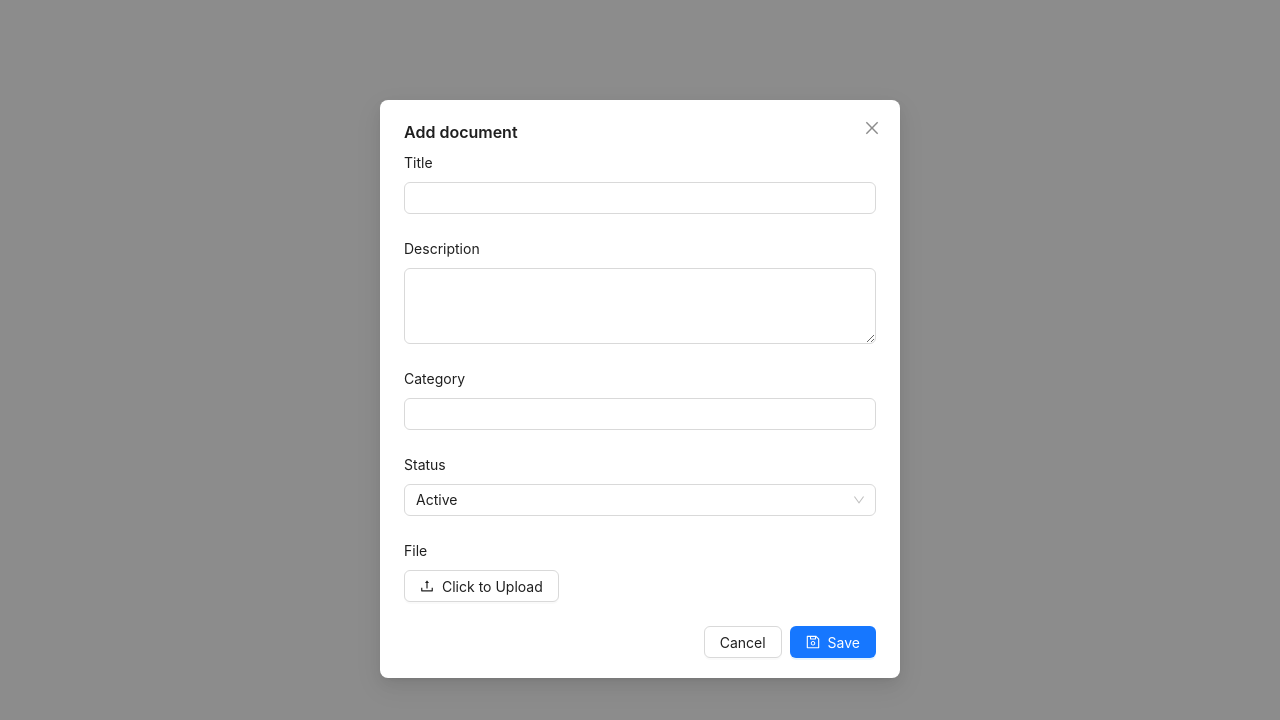
Test case: DocumentFormModal › surfaces a server-side field error on the field, not just the banner
Type "Handbook" into the field labelled "Title" at (640, 198), box [404,182,876,214]
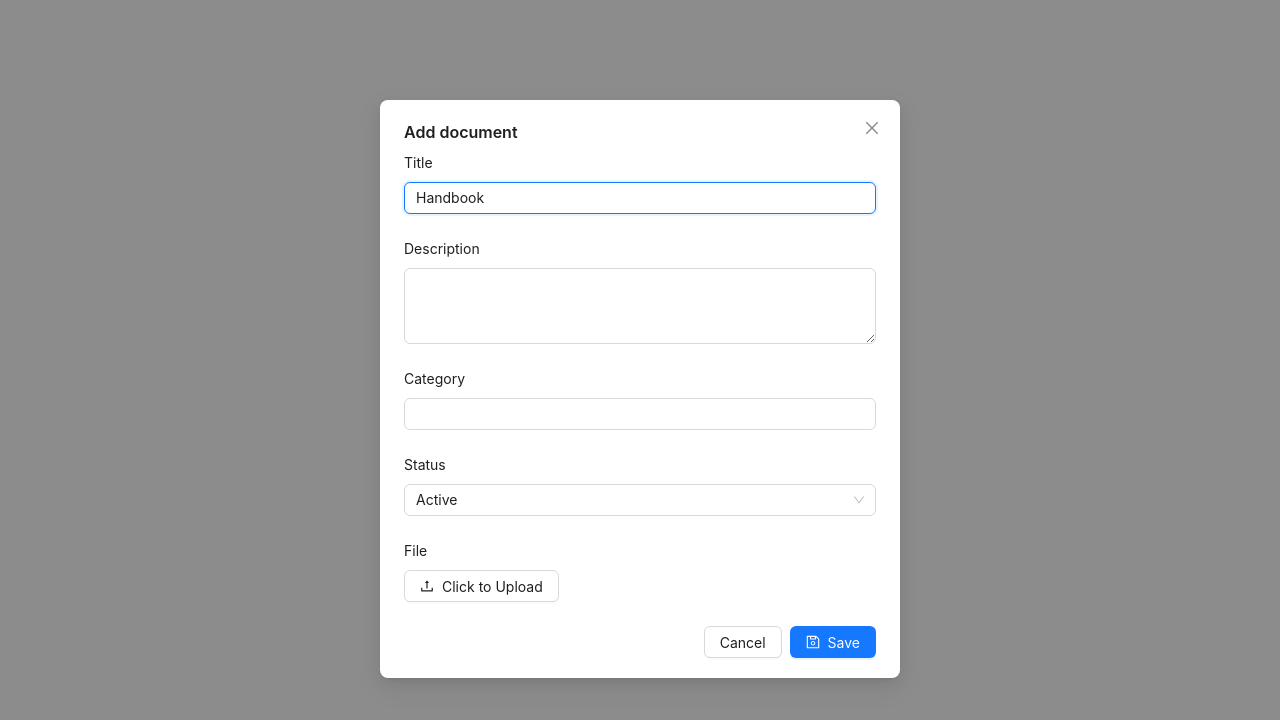
Type "Employee handbook" into the text box labelled "Description" at (640, 306), box [404,268,876,344]
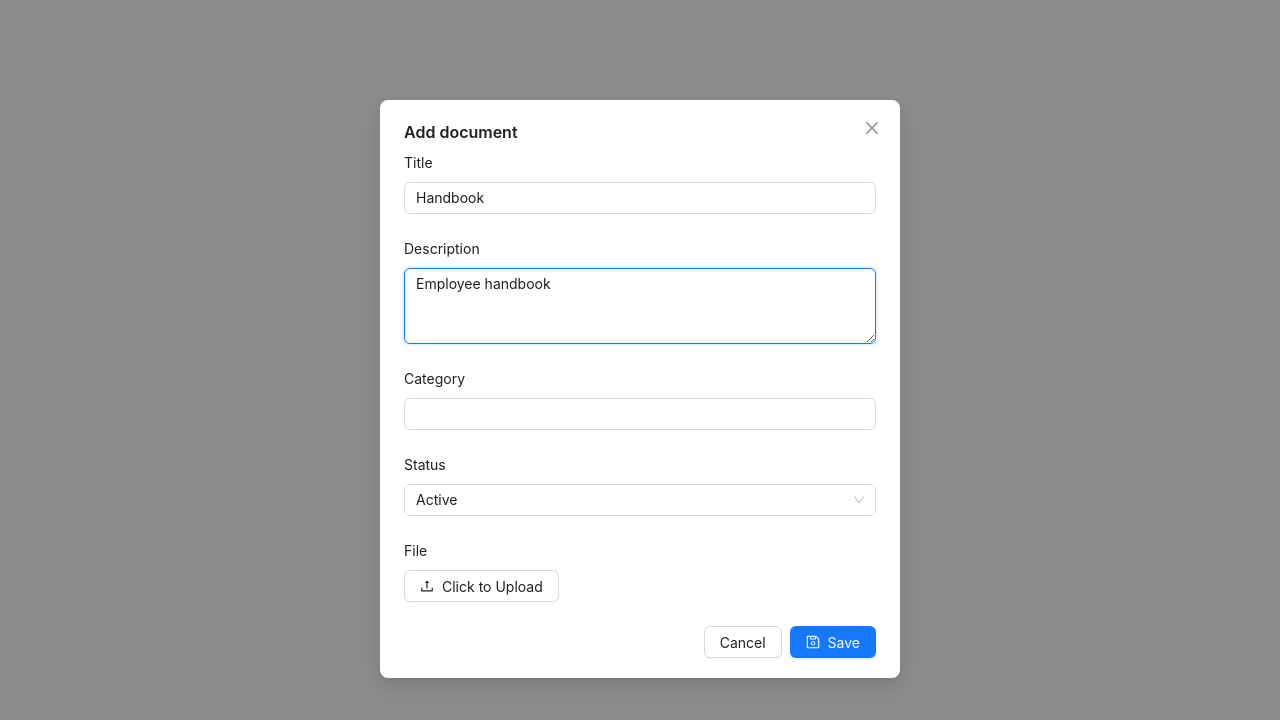
Type "HR" into the field labelled "Category" at (640, 414), box [404,398,876,430]
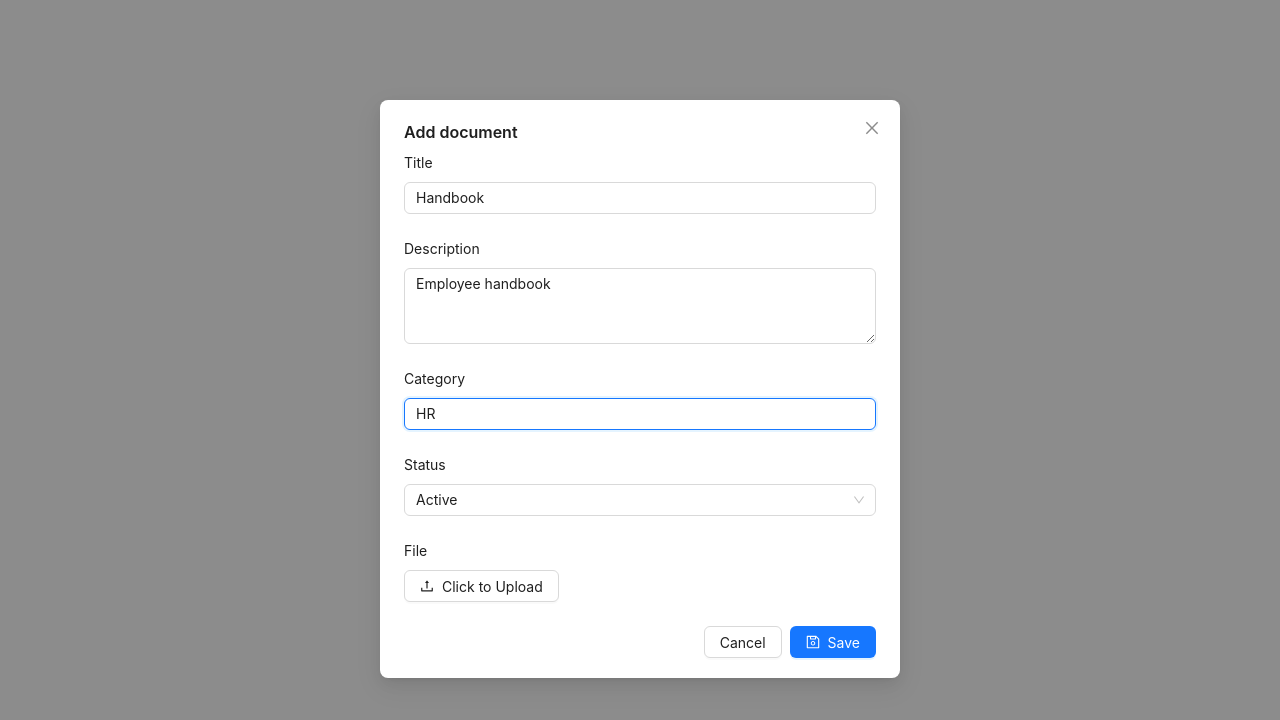
Click the button "Save" at (833, 642), box [790,626,876,658]
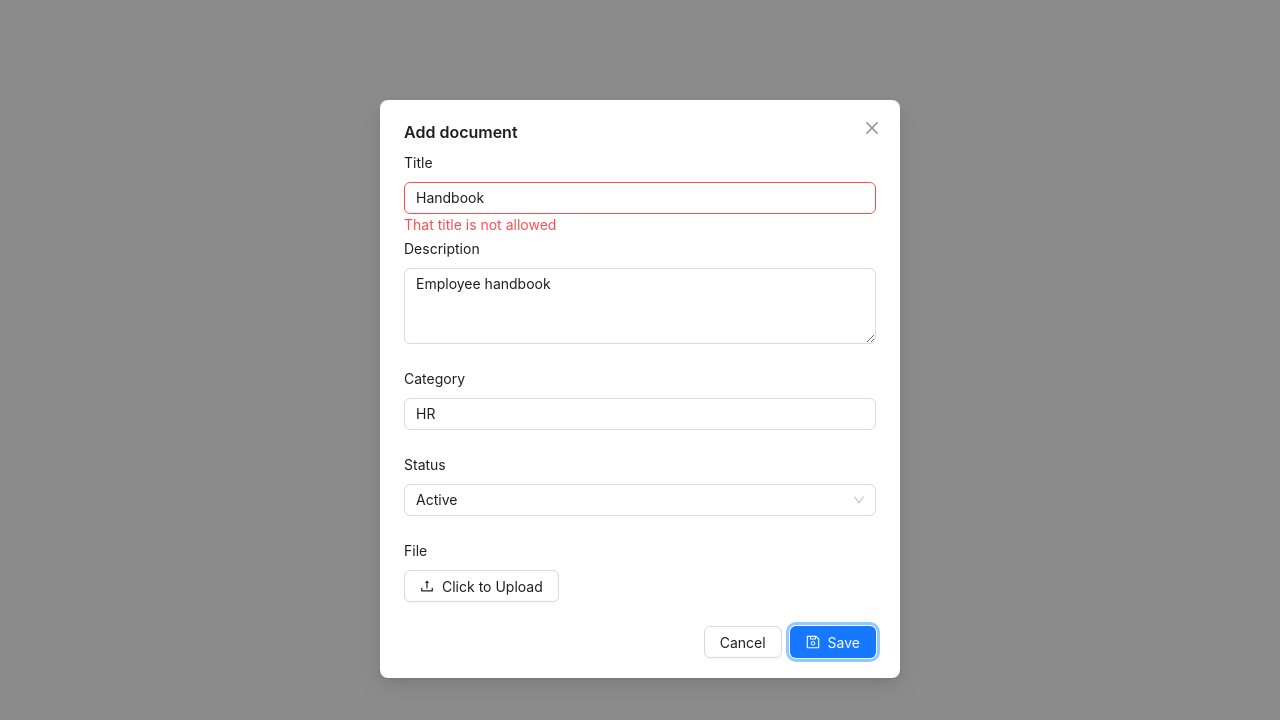
Now the text "That title is not allowed" is shown, box [404,216,556,233]
